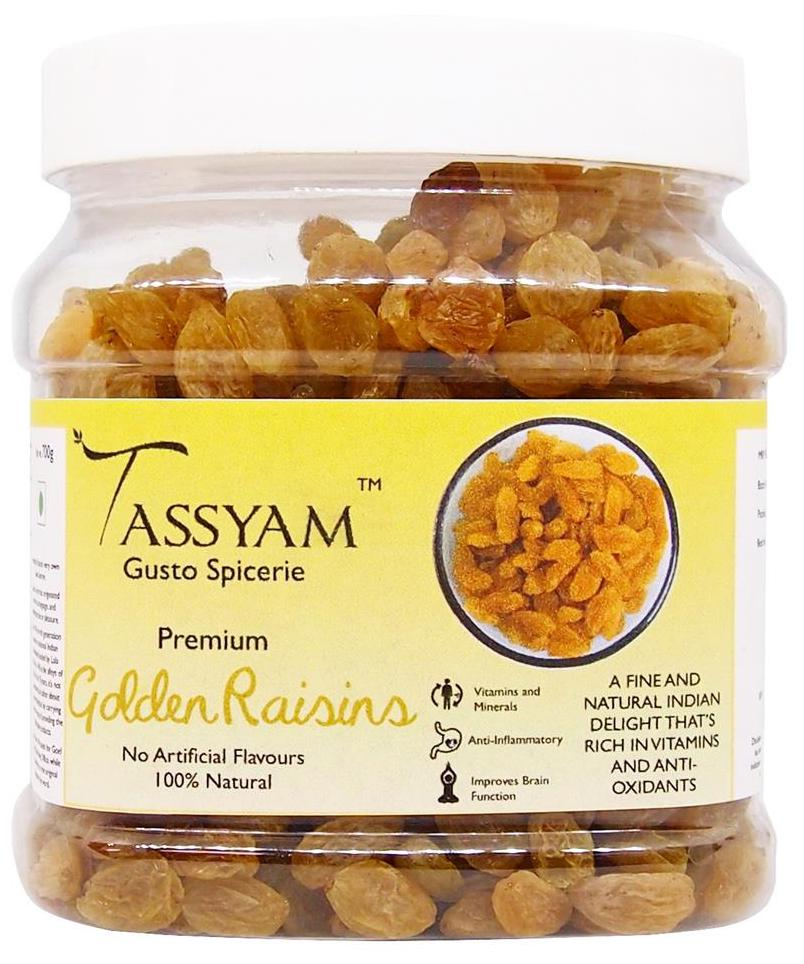JAR: (6, 5, 795, 946)
